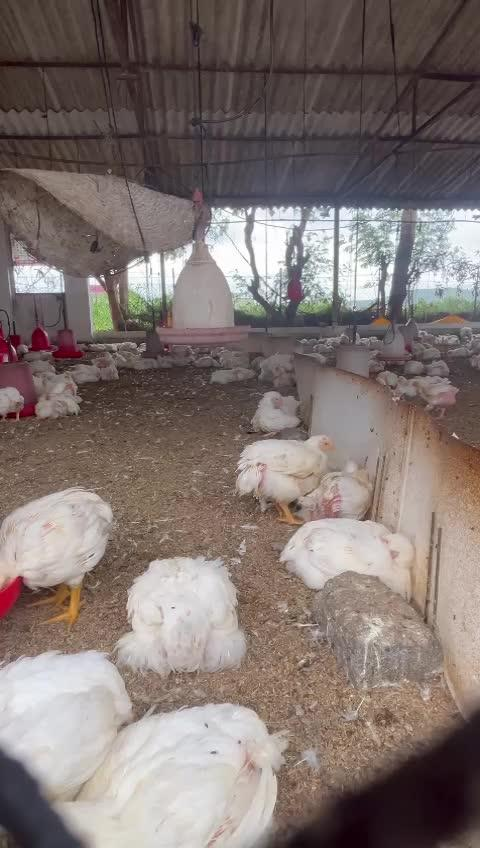AbNormal: (112, 703, 284, 848), (0, 649, 131, 834), (116, 554, 248, 672), (276, 519, 419, 600), (299, 468, 377, 521), (249, 392, 300, 432), (37, 376, 80, 399), (211, 369, 254, 386), (59, 383, 84, 412), (33, 393, 62, 414), (270, 364, 296, 386), (397, 376, 418, 395), (375, 371, 401, 386)
Normal: (0, 488, 113, 631), (236, 436, 341, 518), (412, 379, 459, 418), (0, 386, 25, 422)
